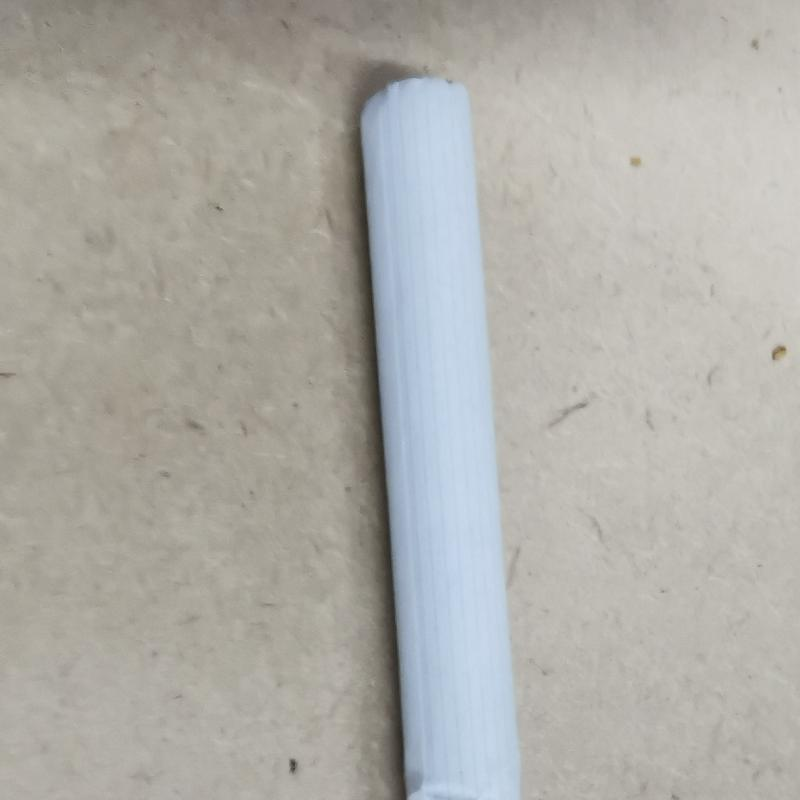cigarette: (346, 70, 531, 800)
